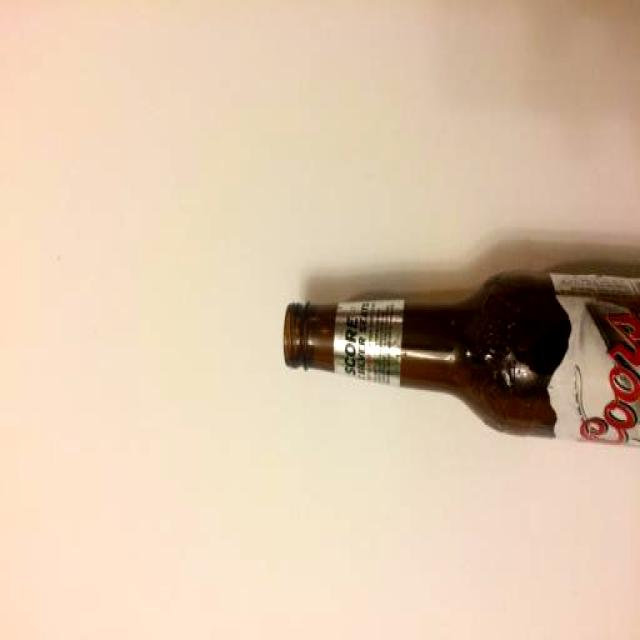Glass: (277, 263, 640, 455)
